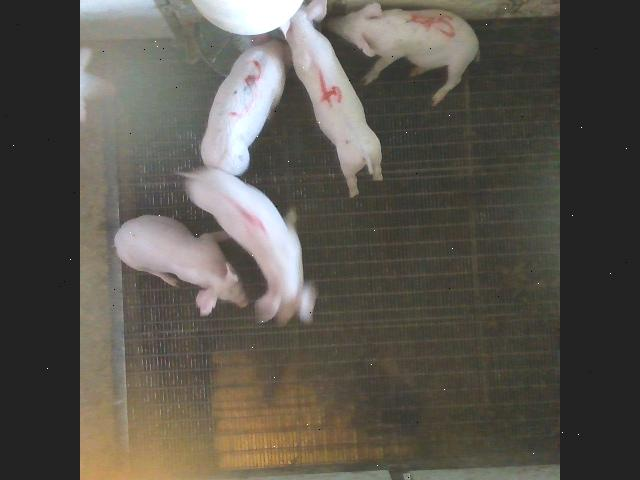pig-1: (182, 166, 315, 324)
pig-3: (201, 39, 285, 175)
pig-4: (287, 0, 382, 196)
pig-5: (327, 2, 479, 104)
